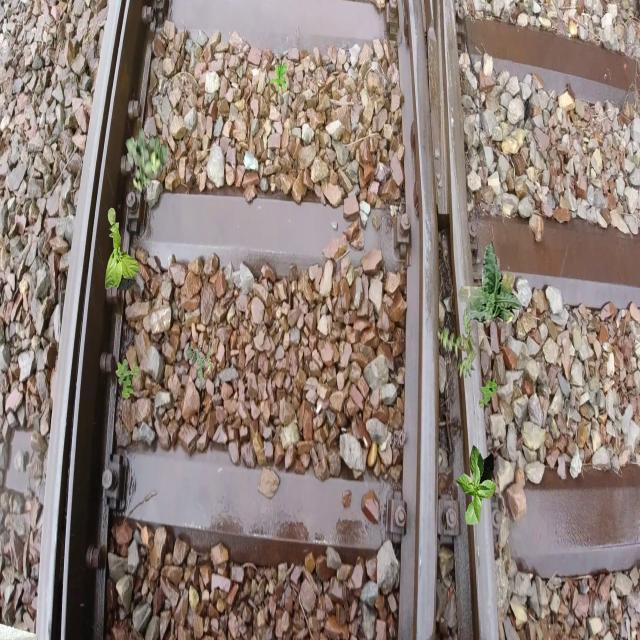Plant: (458, 241, 522, 324), (455, 445, 497, 525), (436, 307, 478, 378), (105, 207, 140, 290), (126, 127, 170, 193), (186, 341, 214, 382), (116, 359, 140, 400), (479, 376, 498, 408), (270, 61, 288, 93)
